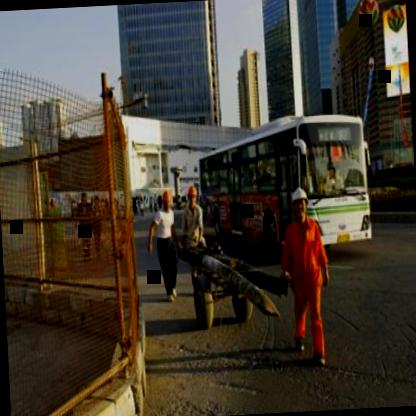helmet: (288, 185, 310, 220), (183, 186, 200, 210), (156, 187, 173, 210)
